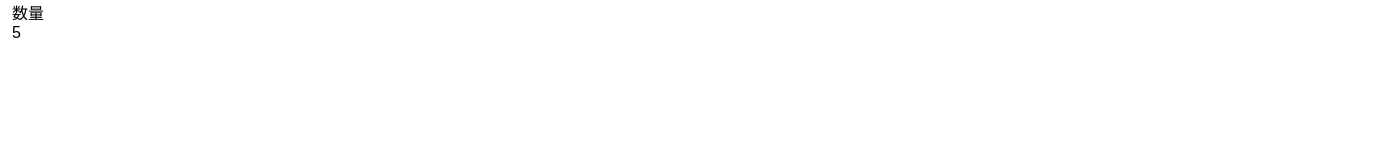
Test: NumberField › checks on leaving and says how to fix it, reporting null
Step 1. Replace the text in the field labelled "数量" with "0" → (695, 33), box [12,24,1378,42]
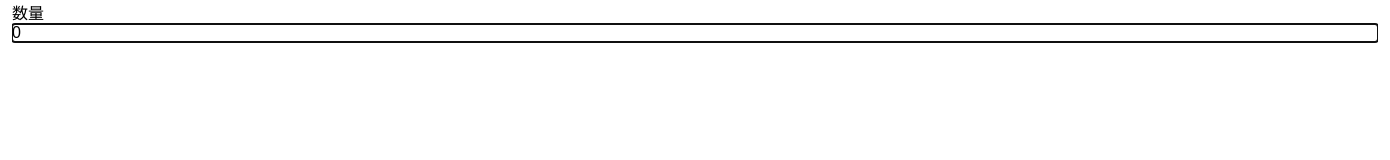
expect the text "1以上の数を入れてください。" is not shown: met
Step 2. Press Tab
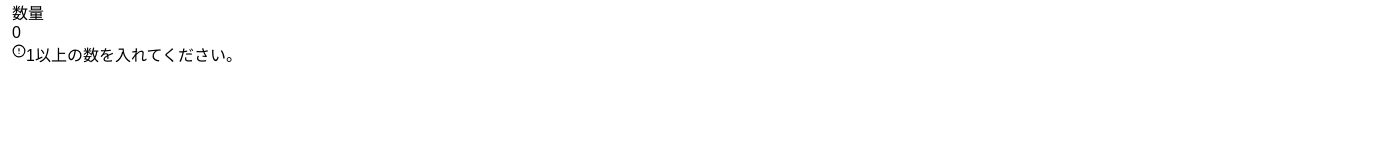
expect the text "1以上の数を入れてください。" is shown: met, box [26,42,242,66]
